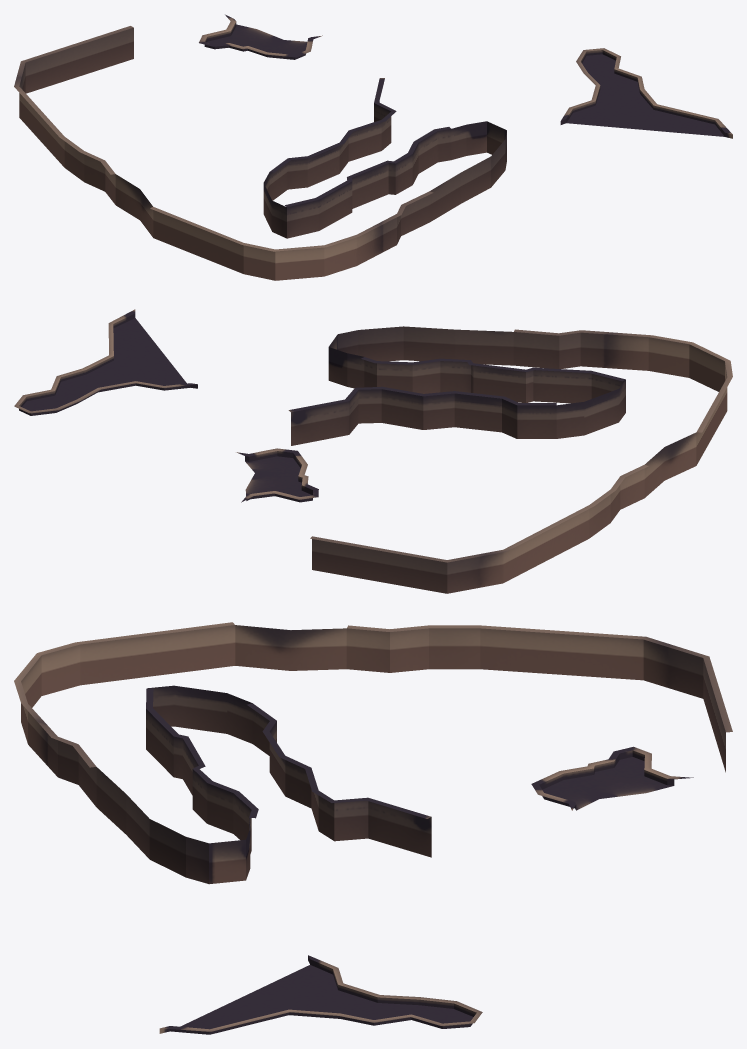
The model's file is Ground_02.FBX.
3 renders of one model, top to bottom at view 1: azimuth 30°, elevation 25°; view 2: azimuth 150°, elevation 25°; view 3: azimuth 270°, elevation 25°, orthographic. The views are drawn at different scales.
Parts seen in each view (by area): view 1: Ground_02; view 2: Ground_02; view 3: Ground_02.
Boxes of the visible parts, x1,y1,x2,y2 form: Ground_02: (14, 14, 732, 280); Ground_02: (14, 309, 732, 593); Ground_02: (14, 622, 732, 1034).
Bounding box in the file's own units: 35.68 × 2.96 × 30.44.
